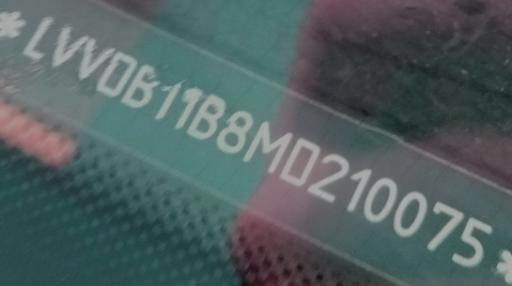letter: (244, 121, 292, 171), (307, 151, 351, 202), (94, 49, 138, 94), (425, 201, 463, 250), (280, 139, 318, 187), (453, 217, 491, 265), (186, 94, 226, 139), (121, 63, 159, 108), (215, 108, 253, 152), (390, 191, 426, 236), (362, 176, 396, 221), (22, 15, 56, 59), (341, 165, 373, 211), (154, 76, 186, 121), (78, 37, 112, 78), (50, 26, 84, 65), (174, 86, 204, 127)
